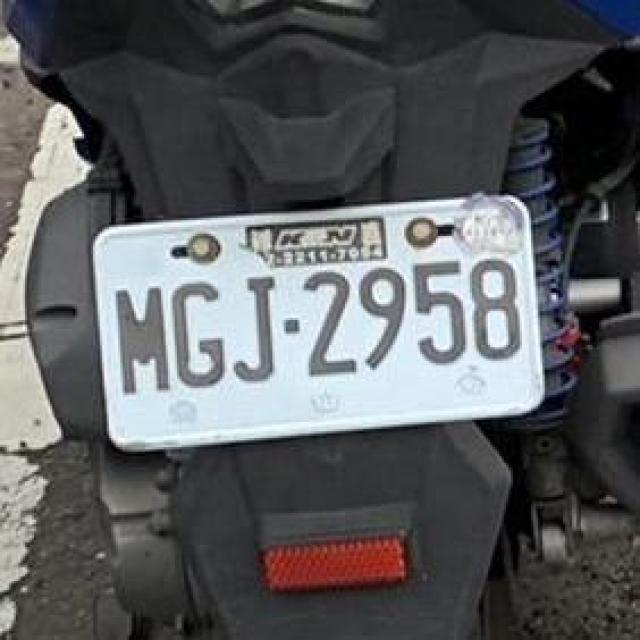W: (86, 189, 554, 453)
